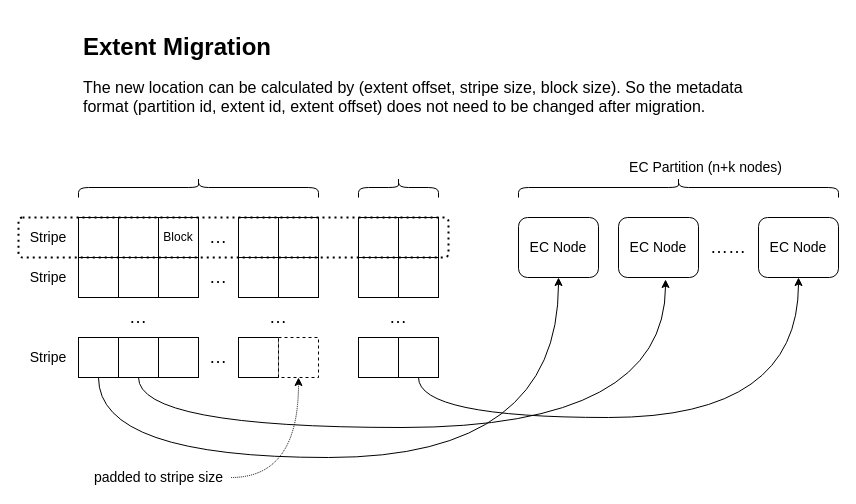
The diagram is 856 pixels wide and 504 high, and some of its shapes have lost their labels. Here are the shapes that lost their labels. From the top down, the centre of each, then its label:
the point at 198,187: Extent Data Blocks
the point at 398,187: Parity Blocks
